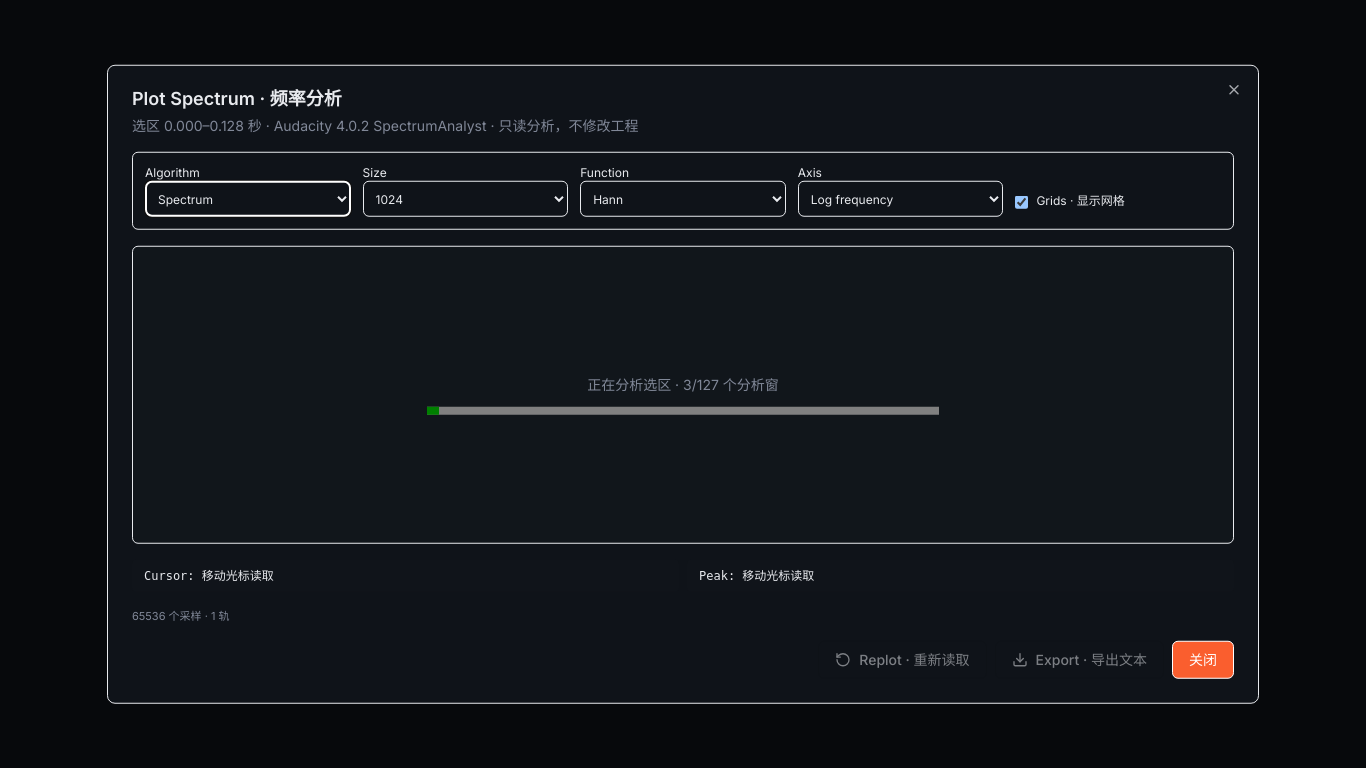
Scenario: PlotSpectrumDialog › shows real analysis progress and cancels the stale run when the algorithm changes
expect the progress indicator named "频谱分析进度" is shown: met, box [427, 407, 939, 415]
Select "Standard Autocorrelation" in the dropdown named "分析算法" at (248, 199), box [145, 181, 351, 217]
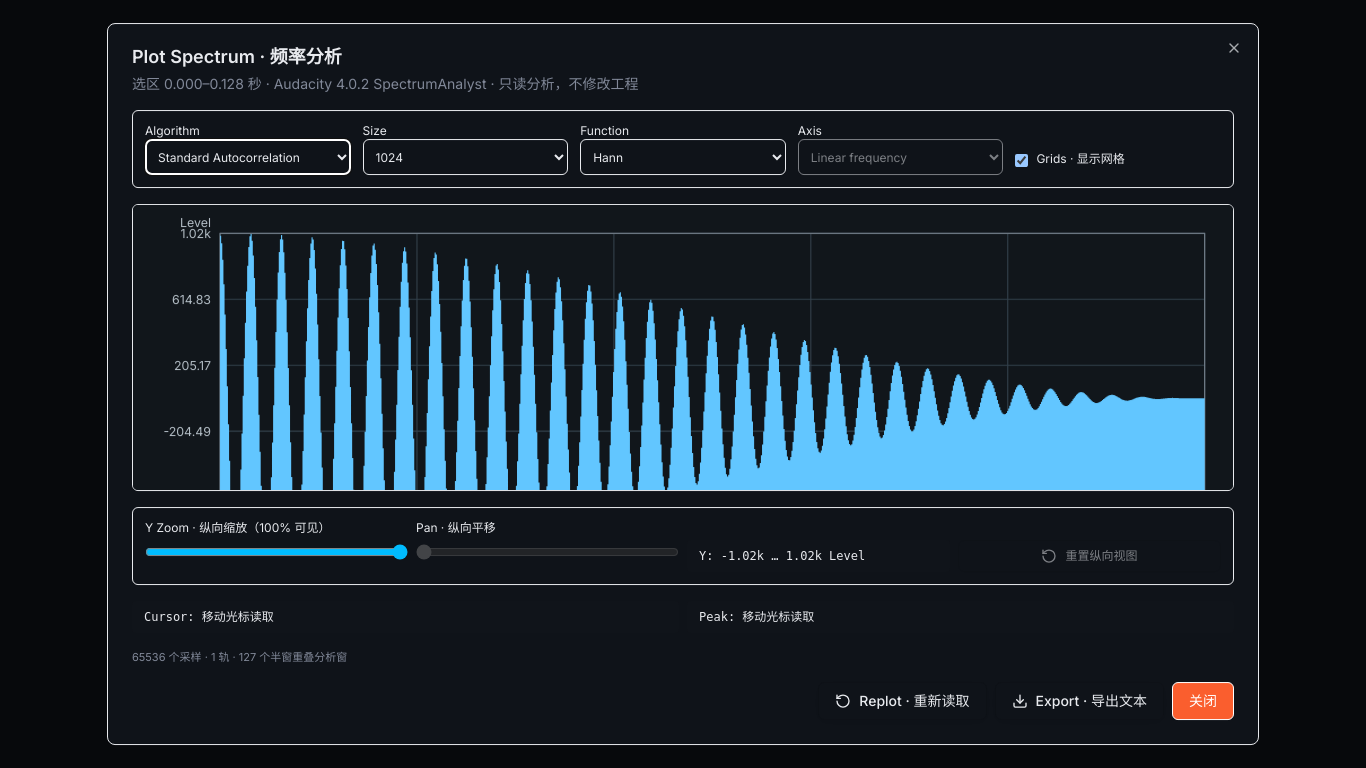
expect the picture named "Standard Autocorrelation 频谱分析图，127 个分析窗" is shown: met, box [141, 213, 1225, 492]
expect the progress indicator "频谱分析进度" is gone: met
